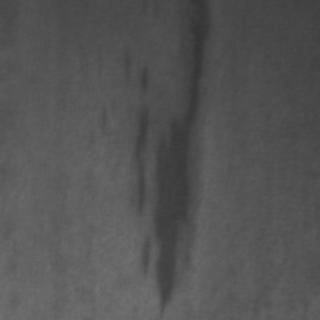inclusion: (122, 24, 205, 316)
